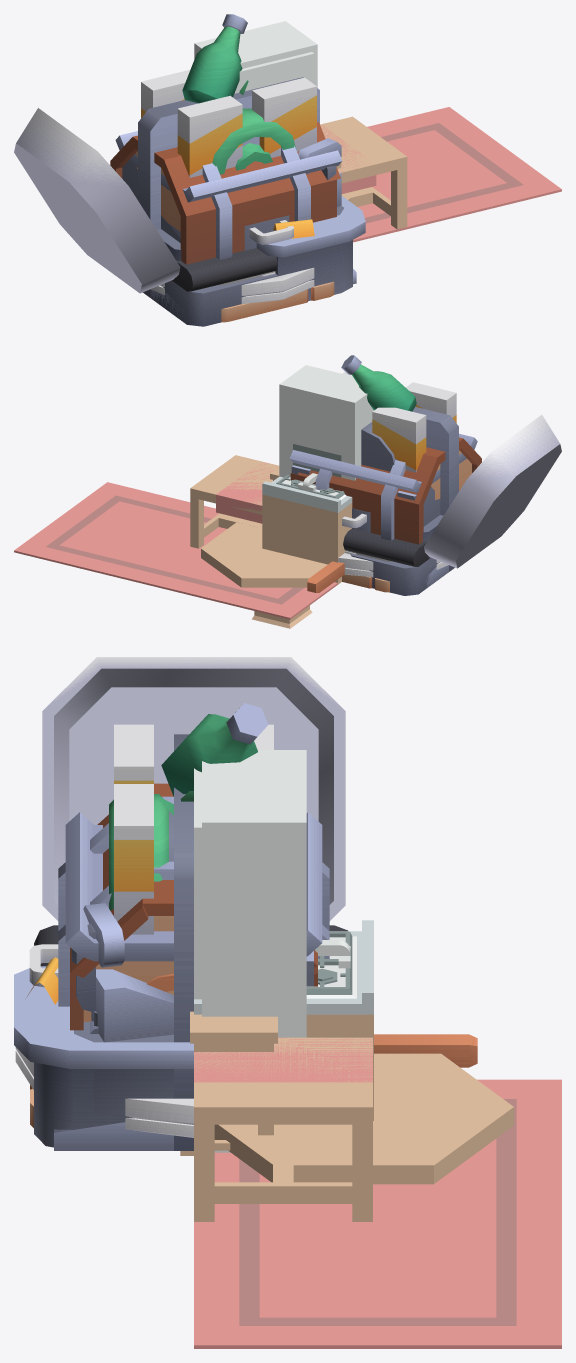
File: props-v1.glb
3 renders of one model, top to bottom at view 1: azimuth 30°, elevation 25°; view 2: azimuth 150°, elevation 25°; view 3: azimuth 270°, elevation 25°, orthographic. The views are drawn at different scales.
Parts seen in each view (by area): view 1: lid, rugRectangle(Clone), barrel, cash-register, box (×3), shelf-boxes, bottle-return, table(Clone), Mesh kitchenFridge, doorFreezer, tableCloth(Clone), cutting-board (+5 smaller); view 2: rugRectangle(Clone), lid, Mesh kitchenFridge, barrel, Mesh kitchenCabinet, tableRound(Clone), shelf-boxes, box (×2), cash-register, table(Clone), bottle-return, tableCloth(Clone) (+7 smaller); view 3: rugRectangle(Clone), lid, cash-register, tableRound(Clone), Mesh kitchenFridge, table(Clone), shelf-boxes, tableCloth(Clone), Mesh kitchenFridgeSmall, box (×2), barrel, bottle-return (+8 smaller).
Part boxes in pixels (x1,y1,x2,y2): lid: (14,108,180,293); rugRectangle(Clone): (353,107,561,242); barrel: (110,122,340,264); cash-register: (143,138,365,326); box (×3): (141,70,316,177); shelf-boxes: (115,77,356,324); bottle-return: (182,14,295,174); table(Clone): (320,116,407,229); Mesh kitchenFridge: (194,21,317,87); doorFreezer: (234,52,314,93); tableCloth(Clone): (320,117,405,193); cutting-board: (221,281,334,322); rugRectangle(Clone): (14,482,337,619); lid: (424,414,561,568); Mesh kitchenFridge: (279,365,373,480); barrel: (290,437,481,544); Mesh kitchenCabinet: (262,483,352,584); tableRound(Clone): (201,522,327,628); shelf-boxes: (289,407,477,587); box (×2): (372,382,456,472); cash-register: (343,528,438,595); table(Clone): (190,455,279,548); bottle-return: (341,355,416,471); tableCloth(Clone): (190,455,277,523); rugRectangle(Clone): (194,1079,561,1348); lid: (42,657,345,920); cash-register: (14,903,347,1147); tableRound(Clone): (214,1053,513,1184); Mesh kitchenFridge: (202,750,306,938); table(Clone): (194,1037,372,1221); shelf-boxes: (54,734,322,1150); tableCloth(Clone): (194,1037,372,1107); Mesh kitchenFridgeSmall: (202,938,306,1152); box (×2): (114,724,153,934); barrel: (58,783,329,1030); bottle-return: (109,703,268,910).
Bounding box in the file's own units: 2.45 × 1.36 × 1.37.
15 materials, 2 textured.
